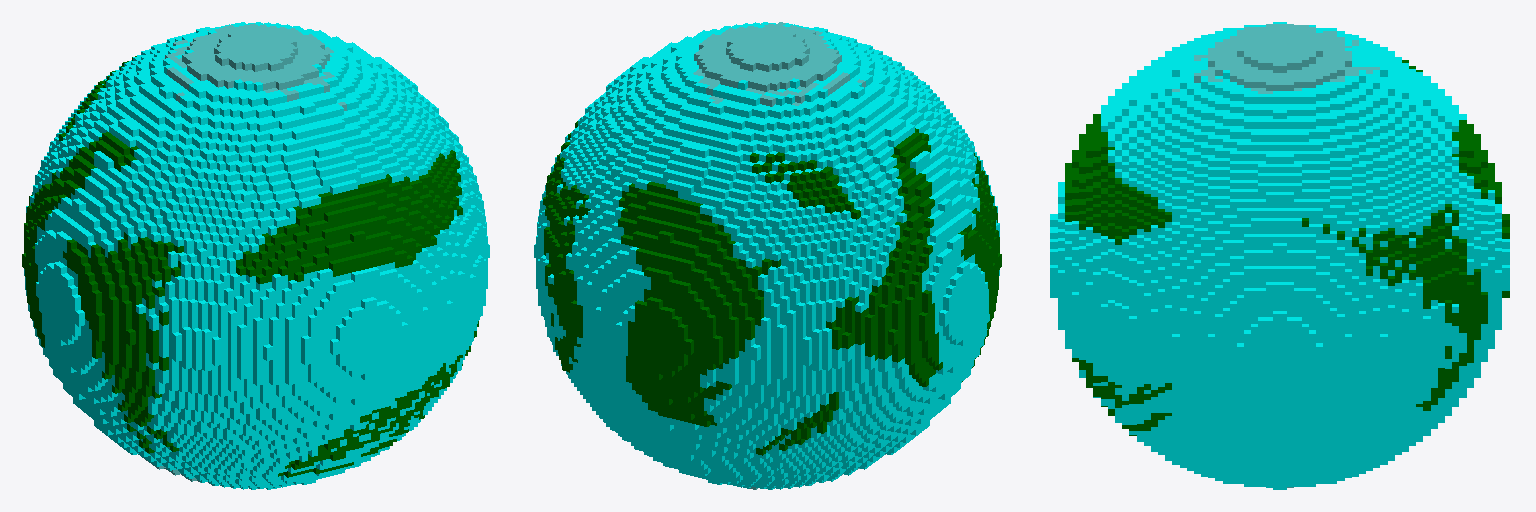
The picture shows the model from 3 angles: view 1: azimuth 30°, elevation 25°; view 2: azimuth 150°, elevation 25°; view 3: azimuth 270°, elevation 25°; orthographic projection.
Visible parts, largest first — view 1: planetas1; view 2: planetas1; view 3: planetas1.
Part boxes in pixels (x1,y1,x2,y2): planetas1: (22, 22, 489, 489); planetas1: (534, 22, 1001, 489); planetas1: (1050, 22, 1509, 489).
Size of the model in its own units: 6.4 by 6.4 by 6.4.
Materials: 1 (1 with a texture image).